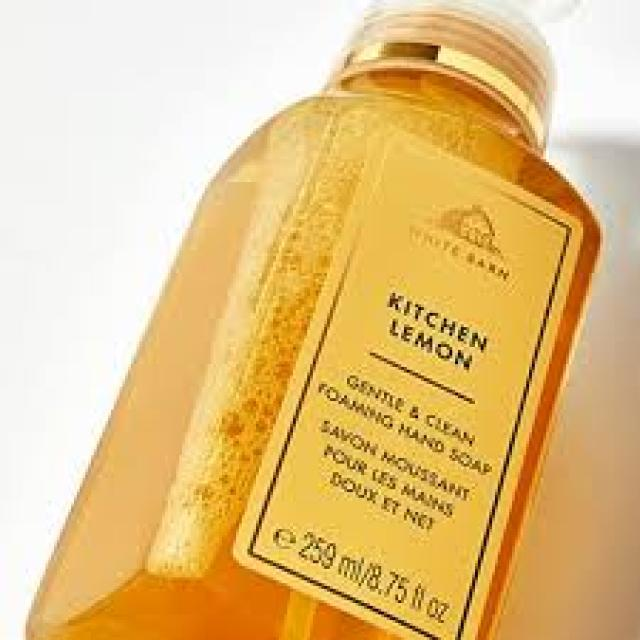liquid soap: (14, 4, 602, 640)
